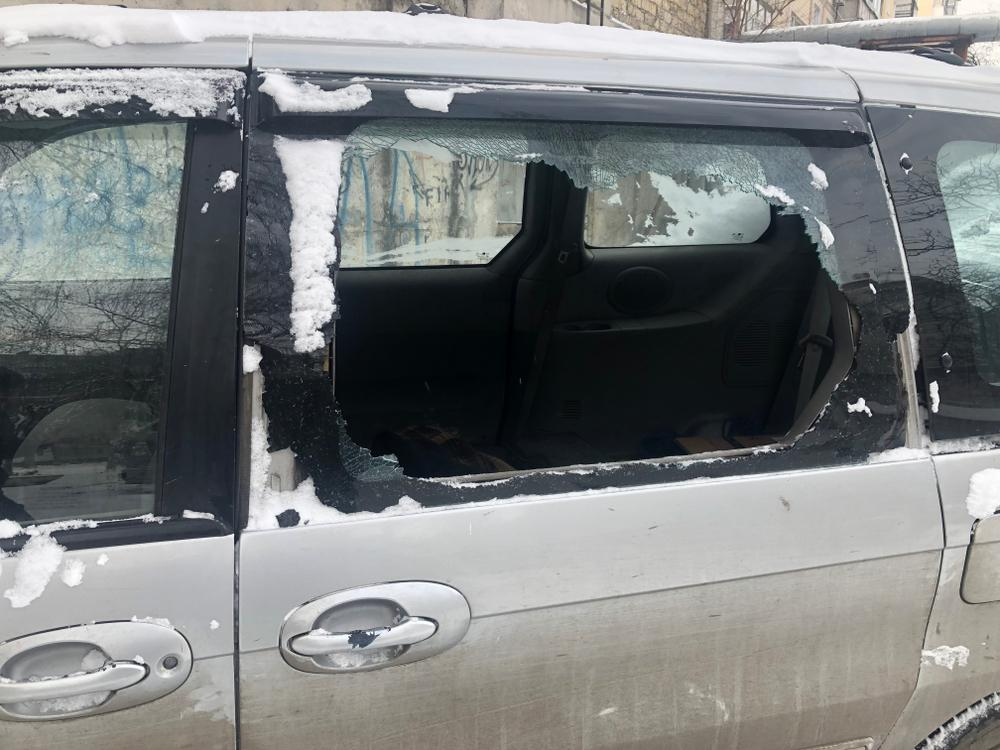glass shatter: (256, 116, 909, 509)
